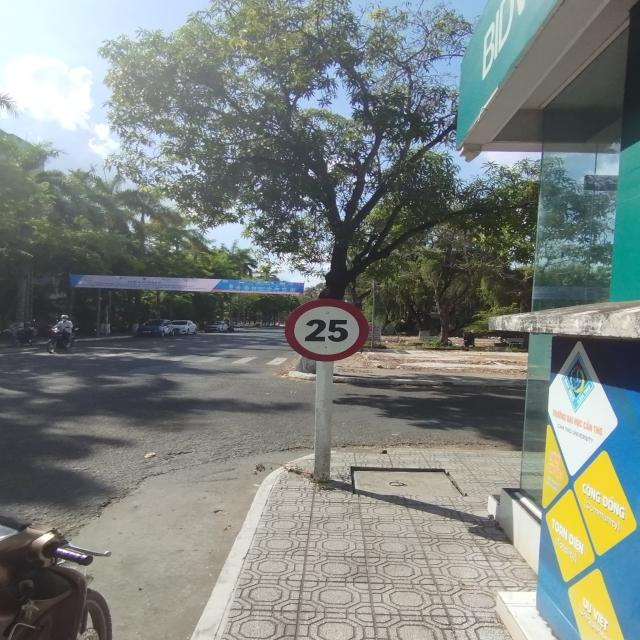Tre_Em: (284, 298, 369, 362)
